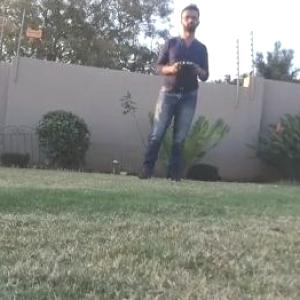follow: (131, 0, 214, 187)
